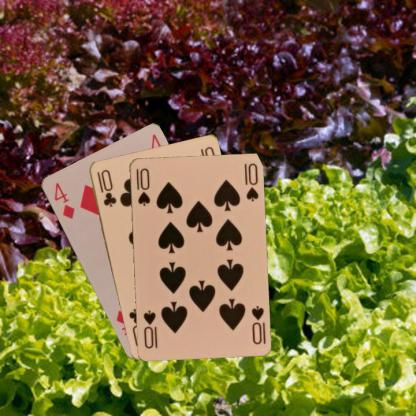10c: (93, 166, 118, 208)
10s: (133, 165, 151, 207), (249, 302, 266, 346)
4d: (51, 180, 76, 220)
